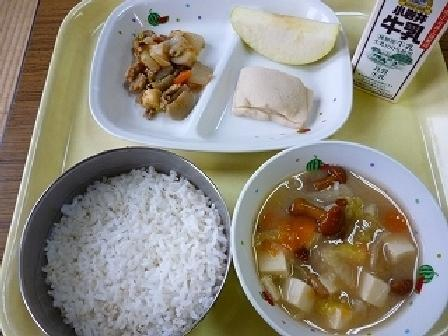Apple: (223, 5, 341, 68)
Milk: (341, 0, 447, 91)
Rice: (23, 149, 236, 335)
Soups: (232, 142, 447, 325)
cooked food meat with vegetables: (120, 20, 214, 122)
pastry: (224, 62, 324, 129)
